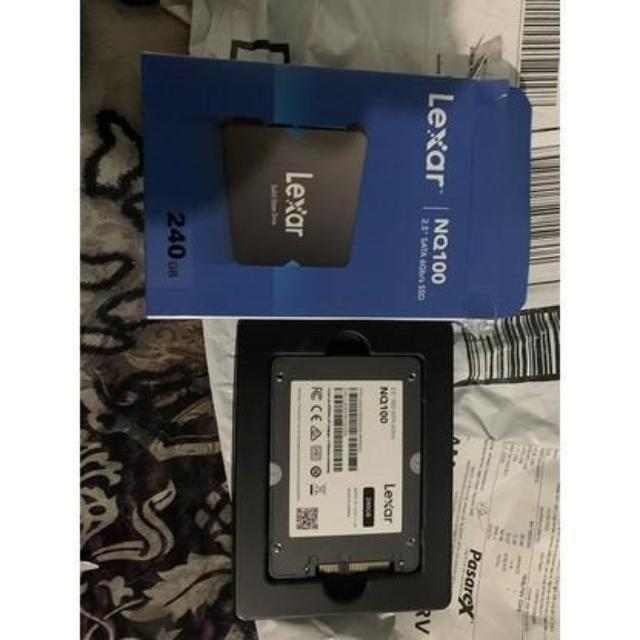DISK: (260, 346, 426, 582)
